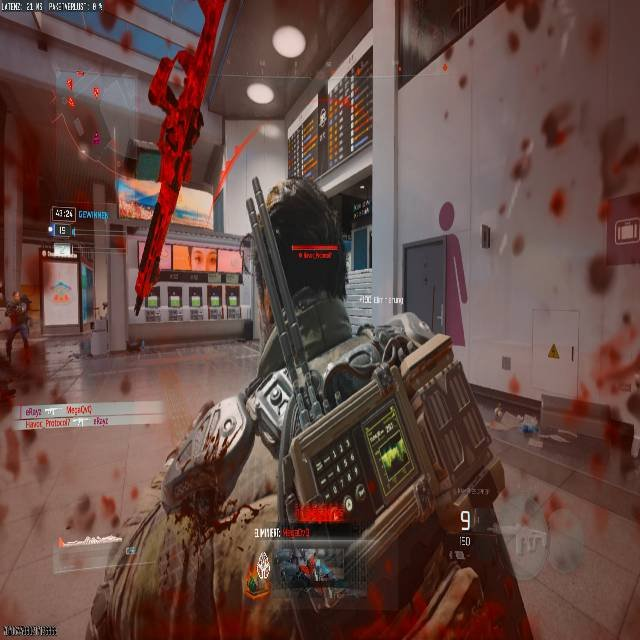player: (593, 304, 640, 478), (1, 291, 32, 362)
